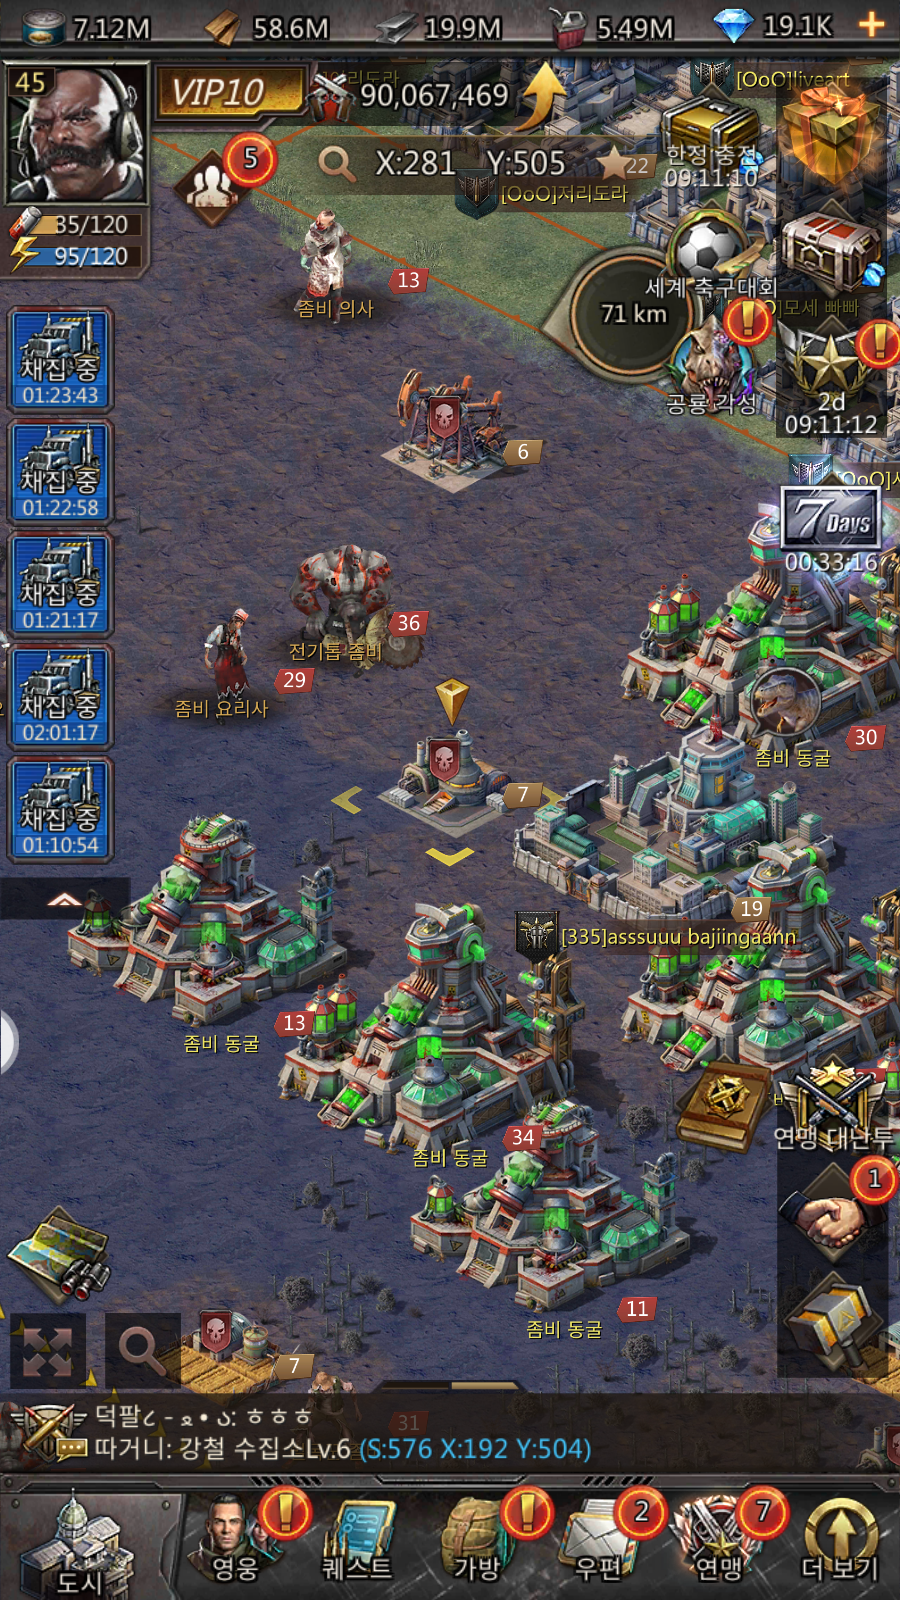city: (13, 1491, 160, 1600)
occupied_steel: (305, 654, 584, 893)
open_panel: (93, 1296, 197, 1404)
troops_cnt_5: (152, 118, 297, 259)
